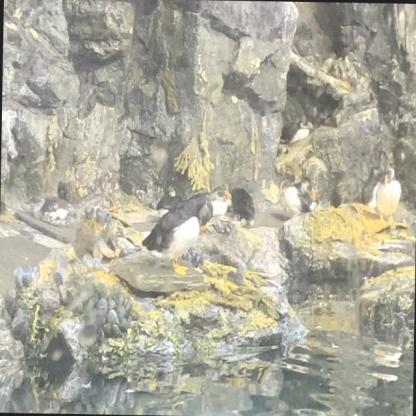puffin: (140, 199, 208, 279), (177, 186, 232, 227), (373, 165, 403, 226), (282, 178, 319, 220), (278, 116, 314, 148), (359, 163, 383, 210), (156, 185, 184, 221)
